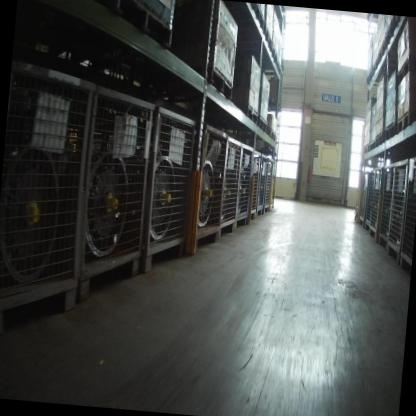pallet: (110, 0, 181, 47), (186, 64, 242, 104), (224, 2, 269, 32), (395, 110, 416, 142), (398, 59, 416, 92), (384, 18, 399, 45), (241, 104, 259, 126), (261, 25, 277, 49), (377, 40, 390, 63), (384, 126, 397, 147), (264, 61, 281, 76), (373, 57, 386, 76), (363, 68, 376, 87), (256, 117, 268, 136), (270, 45, 281, 64), (361, 139, 372, 158), (266, 129, 277, 145), (376, 135, 385, 153), (395, 16, 413, 25), (370, 139, 378, 155)
stillage: (0, 50, 102, 323), (71, 78, 159, 303), (137, 98, 203, 280), (187, 119, 230, 254), (217, 131, 244, 251), (386, 152, 410, 262), (399, 148, 416, 280), (232, 138, 255, 228), (377, 157, 397, 252), (368, 162, 387, 241), (245, 144, 263, 226), (357, 165, 375, 232), (252, 151, 269, 220), (364, 165, 378, 231), (261, 153, 275, 218), (268, 156, 282, 212)
